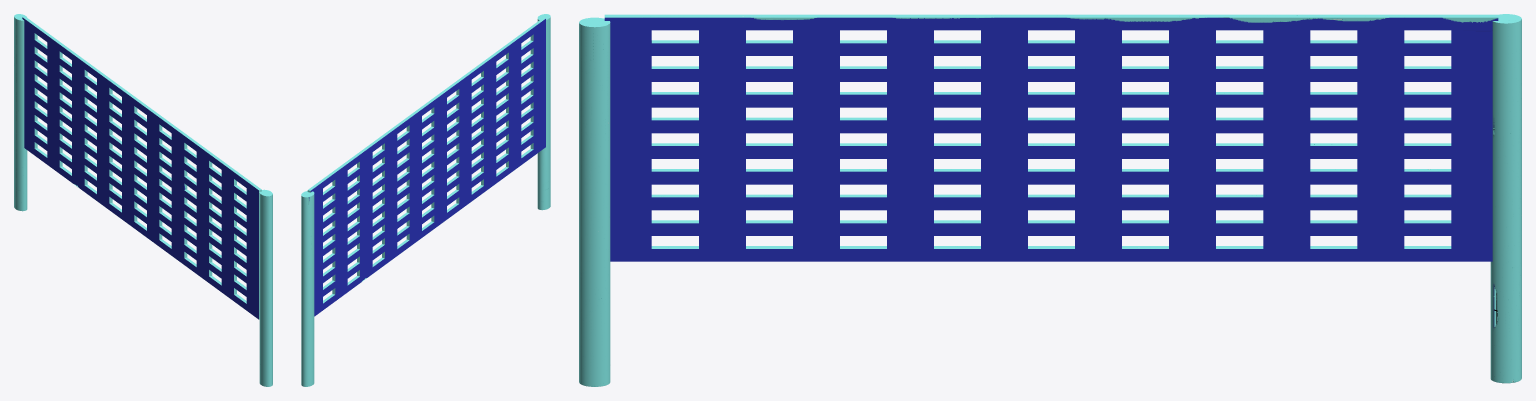
Rendered from blender-Net.obj.
3 renders of one model, left to right at view 1: azimuth 30°, elevation 25°; view 2: azimuth 150°, elevation 25°; view 3: azimuth 270°, elevation 25°, orthographic. The views are drawn at different scales.
Parts seen in each view (by area): view 1: Maya_Net; view 2: Maya_Net; view 3: Maya_Net.
Boxes of the visible parts, <box> form: Maya_Net: <box>14,14,272,386</box>; Maya_Net: <box>301,14,550,386</box>; Maya_Net: <box>579,14,1521,386</box>.
Bounding box in the file's own units: 1.1 × 14.13 × 33.25.
